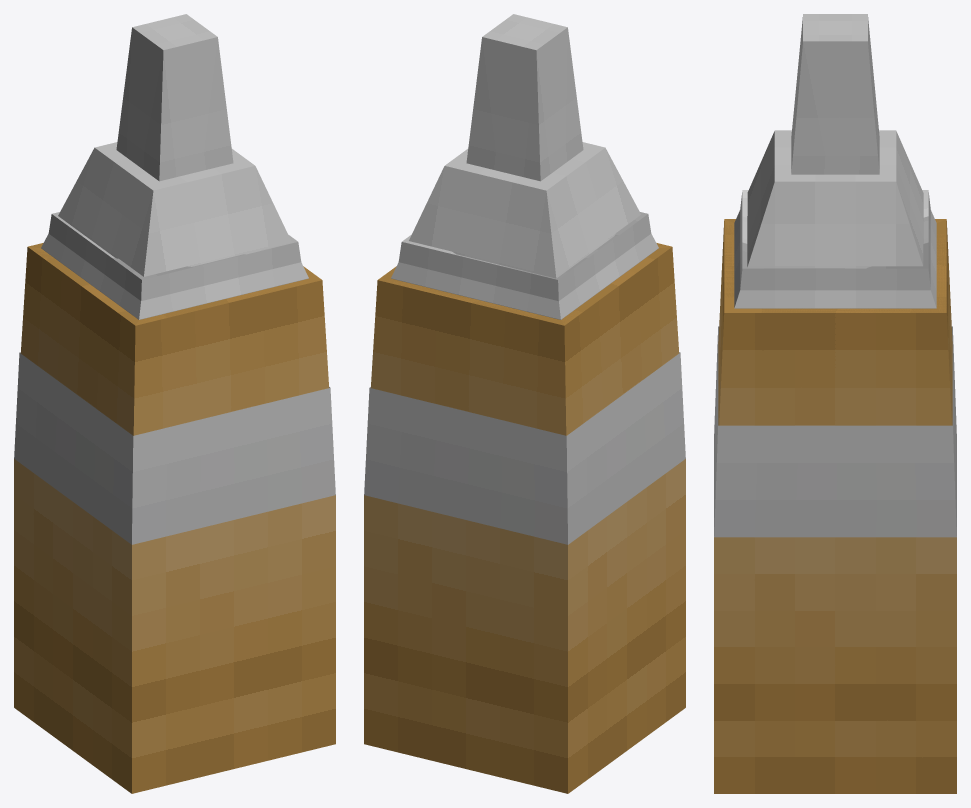
The model's file is artillery_6bcal_long.obj.
The picture shows the model from 3 angles, left to right: view 1: azimuth 30°, elevation 25°; view 2: azimuth 150°, elevation 25°; view 3: azimuth 270°, elevation 25°; orthographic projection. The views are drawn at different scales.
Visible parts, largest first — view 1: casing, cube, core_shaped, core_shaped_sabot, casing_simple, core_canister; view 2: casing, cube, core_shaped, core_shaped_sabot, casing_simple, core_canister; view 3: casing, cube, core_shaped, core_shaped_sabot, core_canister, casing_simple.
Boxes of the visible parts, x1,y1,x2,y2 form: casing: (14, 243, 335, 793); cube: (14, 352, 335, 544); core_shaped: (41, 142, 308, 319); core_shaped_sabot: (48, 14, 301, 300); casing_simple: (29, 244, 319, 324); core_canister: (96, 142, 253, 189); casing: (364, 243, 685, 793); cube: (364, 352, 685, 544); core_shaped: (391, 142, 658, 319); core_shaped_sabot: (398, 14, 651, 300); casing_simple: (380, 243, 670, 325); core_canister: (445, 143, 602, 189); casing: (714, 219, 956, 793); cube: (714, 326, 956, 537); core_shaped: (734, 130, 936, 308); core_shaped_sabot: (740, 14, 930, 290); core_canister: (774, 130, 896, 181); casing_simple: (724, 219, 946, 312).
Size of the model in its own units: 0.375 by 1.22 by 0.375.
